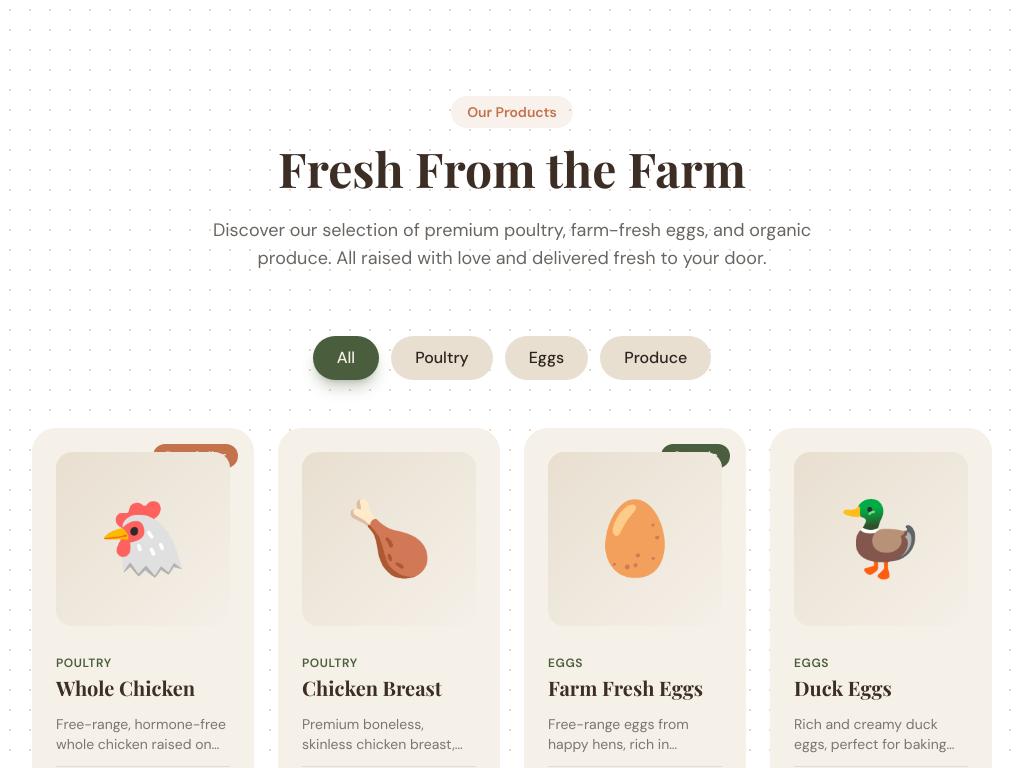
Scenario: Products › shows all products when All is clicked after filtering
Check: the heading "Farm Fresh Eggs" is shown, box left=548, top=674, right=722, bottom=702
First filter to Poultry
Click the button "Poultry" at (442, 358), box left=391, top=336, right=493, bottom=380
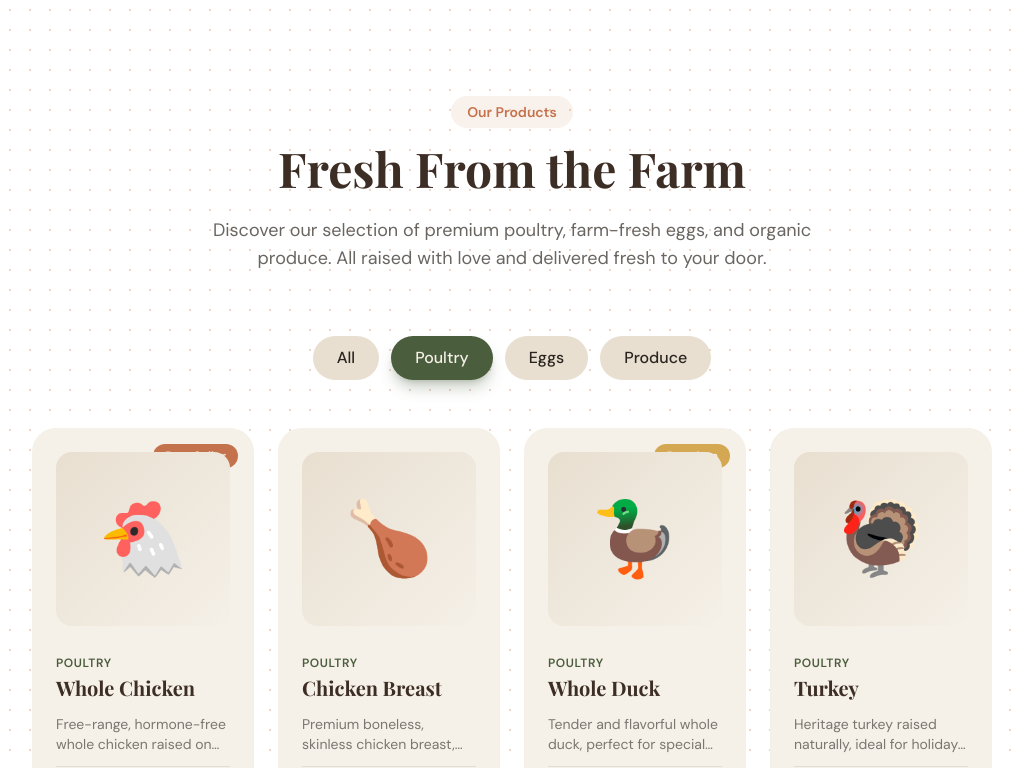
Check: the heading "Farm Fresh Eggs" is gone
Then click All
Click the button "All" at (346, 358), box left=313, top=336, right=379, bottom=380
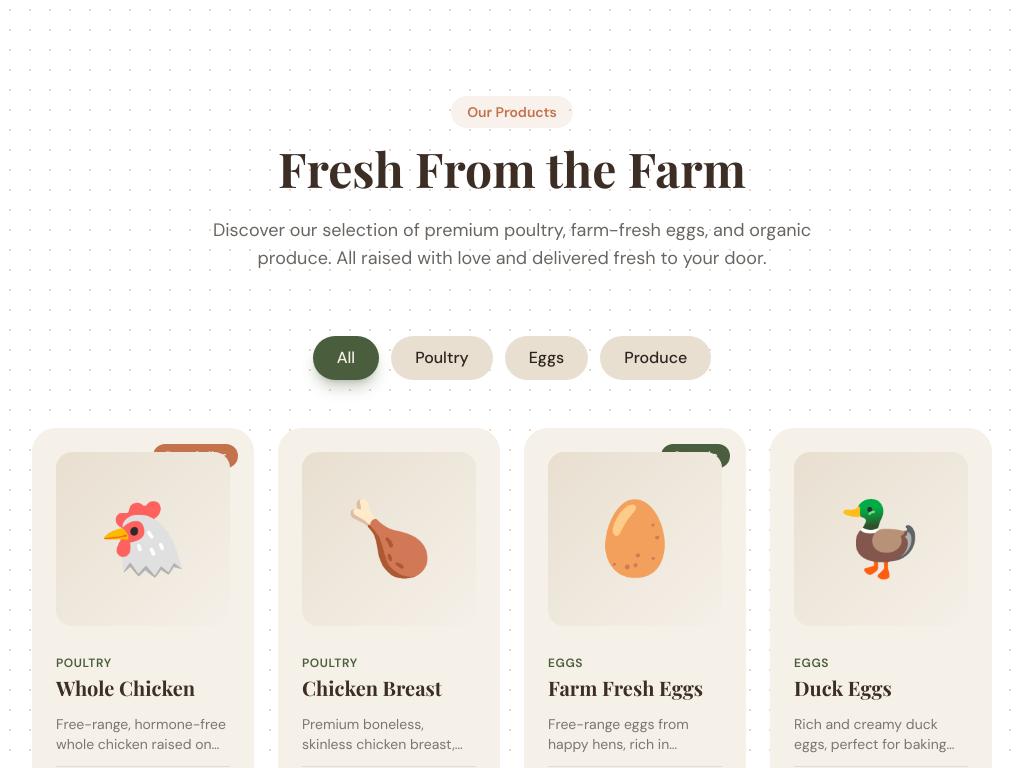
Check: the heading "Whole Chicken" is shown, box left=56, top=674, right=195, bottom=701
Check: the heading "Farm Fresh Eggs" is shown, box left=548, top=674, right=722, bottom=702
